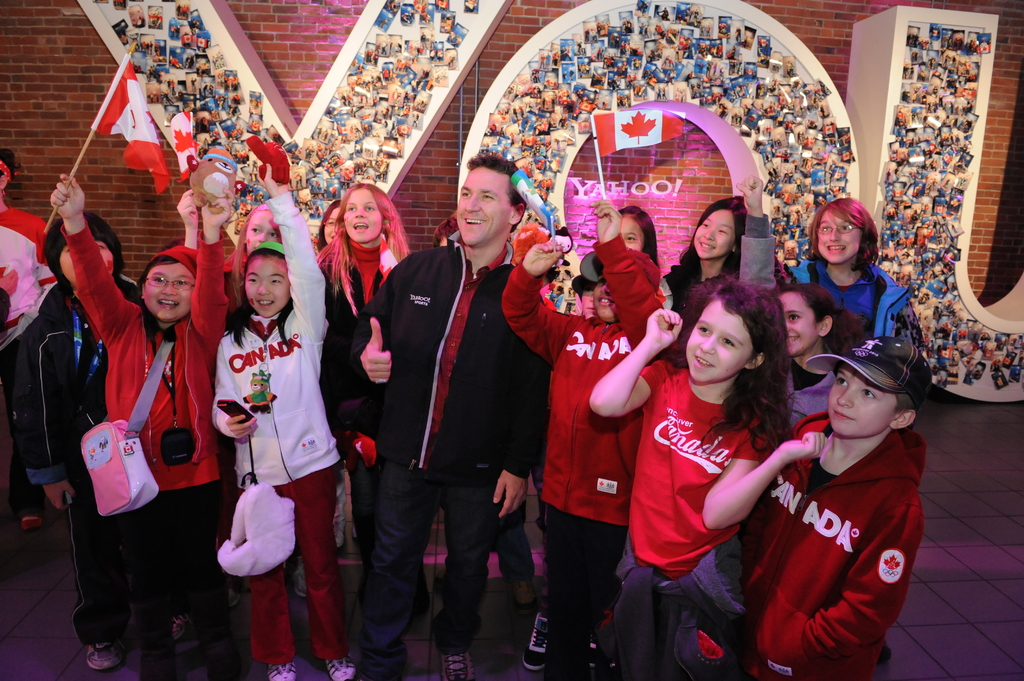Human-face: (688, 304, 751, 378), (829, 367, 897, 434), (457, 168, 511, 244), (146, 263, 195, 322), (246, 260, 289, 317), (61, 241, 113, 285), (818, 212, 861, 262), (780, 296, 817, 354), (343, 191, 383, 243), (696, 209, 733, 257), (246, 216, 284, 254), (596, 272, 614, 314), (622, 220, 643, 252), (326, 209, 339, 244), (583, 280, 595, 317)
